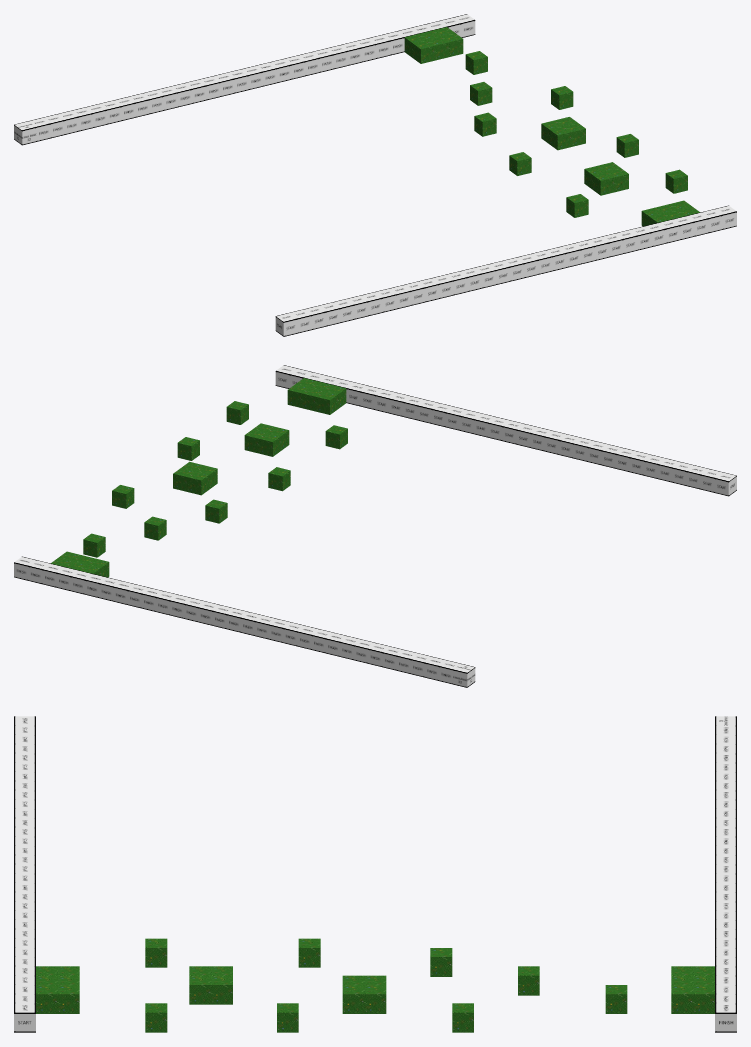
Rendered from challenge32_02.gltf.
3 views of the same model, one above another, from view 1: azimuth 30°, elevation 25°; view 2: azimuth 150°, elevation 25°; view 3: azimuth 270°, elevation 25° (orthographic). The views are drawn at different scales.
Visible parts, largest first — view 1: map; view 2: map; view 3: map.
Part boxes in pixels (box(x1,y1,x2,y2)): map: box(14, 14, 736, 336); map: box(14, 365, 736, 687); map: box(14, 716, 736, 1032).
Size of the model in its own units: 64 by 2 by 66.
Materials: 4 (4 with a texture image).
